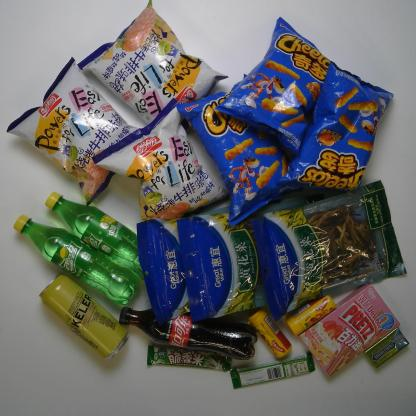Alcohol: (37, 272, 130, 362)
Candy: (246, 308, 292, 358), (285, 294, 337, 336)
Chocolate: (229, 350, 317, 390), (144, 344, 232, 372)
Dessert: (297, 281, 402, 379)
Dried Food: (252, 178, 410, 324), (174, 188, 326, 326), (135, 206, 231, 327)
Drink: (10, 212, 141, 306), (43, 190, 145, 282), (118, 303, 258, 361)
Gum: (363, 326, 411, 370)
Puffed Food: (6, 56, 142, 206), (174, 72, 304, 228), (75, 0, 231, 126), (91, 96, 230, 219), (213, 14, 331, 155), (277, 58, 396, 194)
